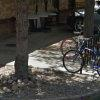Bicycle: (59, 34, 100, 80)
